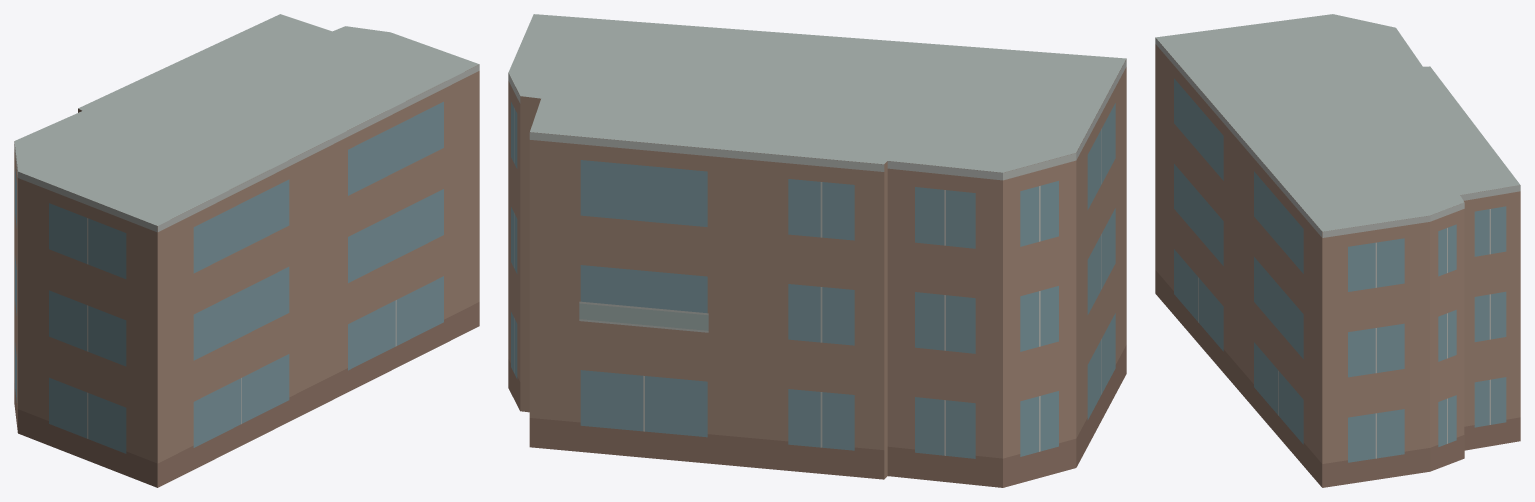
Rendered from survey-upis-32930176.glb.
3 renders of one model, left to right at view 1: azimuth 30°, elevation 25°; view 2: azimuth 150°, elevation 25°; view 3: azimuth 270°, elevation 25°, orthographic. The views are drawn at different scales.
Parts seen in each view (by area): view 1: survey-upis-32930176.tmp; view 2: survey-upis-32930176.tmp; view 3: survey-upis-32930176.tmp.
Boxes of the visible parts, <box> form: survey-upis-32930176.tmp: <box>14,14,479,487</box>; survey-upis-32930176.tmp: <box>508,14,1126,487</box>; survey-upis-32930176.tmp: <box>1155,14,1520,487</box>.
Bounding box in the file's own units: 18.06 × 9.9 × 12.8.
